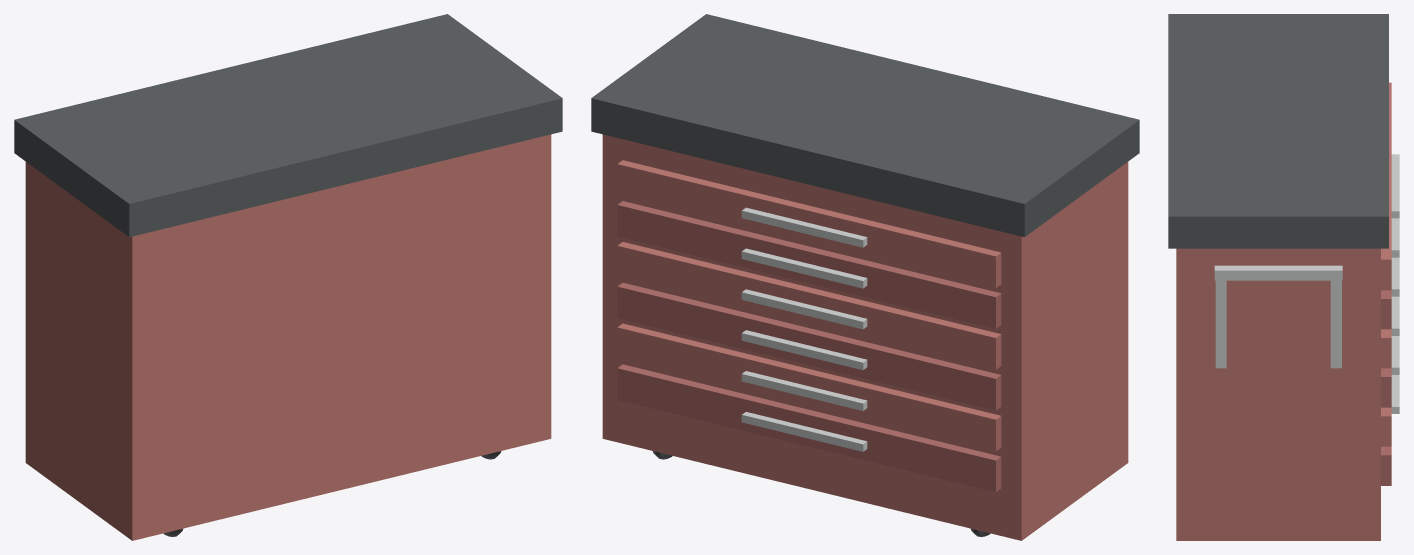
File: tool-chest.glb
The picture shows the model from 3 angles, left to right: view 1: azimuth 30°, elevation 25°; view 2: azimuth 150°, elevation 25°; view 3: azimuth 270°, elevation 25°; orthographic projection. The views are drawn at different scales.
Parts seen in each view (by area): view 1: body, topPad; view 2: body, topPad, drawer1, drawer0, drawer2, drawer3, drawer4, drawer5, handle3, handle4, handle1, handle5 (+2 smaller); view 3: body, topPad, sideHandle, sideHandlePostR, sideHandlePostL, drawer5, handle5, drawer0, drawer1, drawer2, drawer3, drawer4 (+5 smaller).
Boxes of the visible parts, <box> form: body: <box>25,134,551,540</box>; topPad: <box>14,14,562,237</box>; body: <box>602,134,1128,540</box>; topPad: <box>591,14,1139,237</box>; drawer1: <box>617,323,1001,451</box>; drawer0: <box>617,364,1001,492</box>; drawer2: <box>617,282,1001,410</box>; drawer3: <box>617,242,1001,369</box>; drawer4: <box>617,201,1001,328</box>; drawer5: <box>617,160,1001,287</box>; handle3: <box>741,289,867,329</box>; handle4: <box>741,248,867,288</box>; handle1: <box>741,371,867,410</box>; handle5: <box>741,207,867,247</box>; body: <box>1176,248,1380,540</box>; topPad: <box>1168,14,1388,248</box>; sideHandle: <box>1214,265,1342,280</box>; sideHandlePostR: <box>1215,275,1226,368</box>; sideHandlePostL: <box>1330,275,1341,368</box>; drawer5: <box>1381,82,1391,290</box>; handle5: <box>1391,154,1399,218</box>; drawer0: <box>1381,446,1391,485</box>; drawer1: <box>1381,407,1391,446</box>; drawer2: <box>1381,368,1391,407</box>; drawer3: <box>1381,329,1391,368</box>; drawer4: <box>1381,290,1391,329</box>.
Bounding box in the file's own units: 1.53 × 1.19 × 0.7225.
